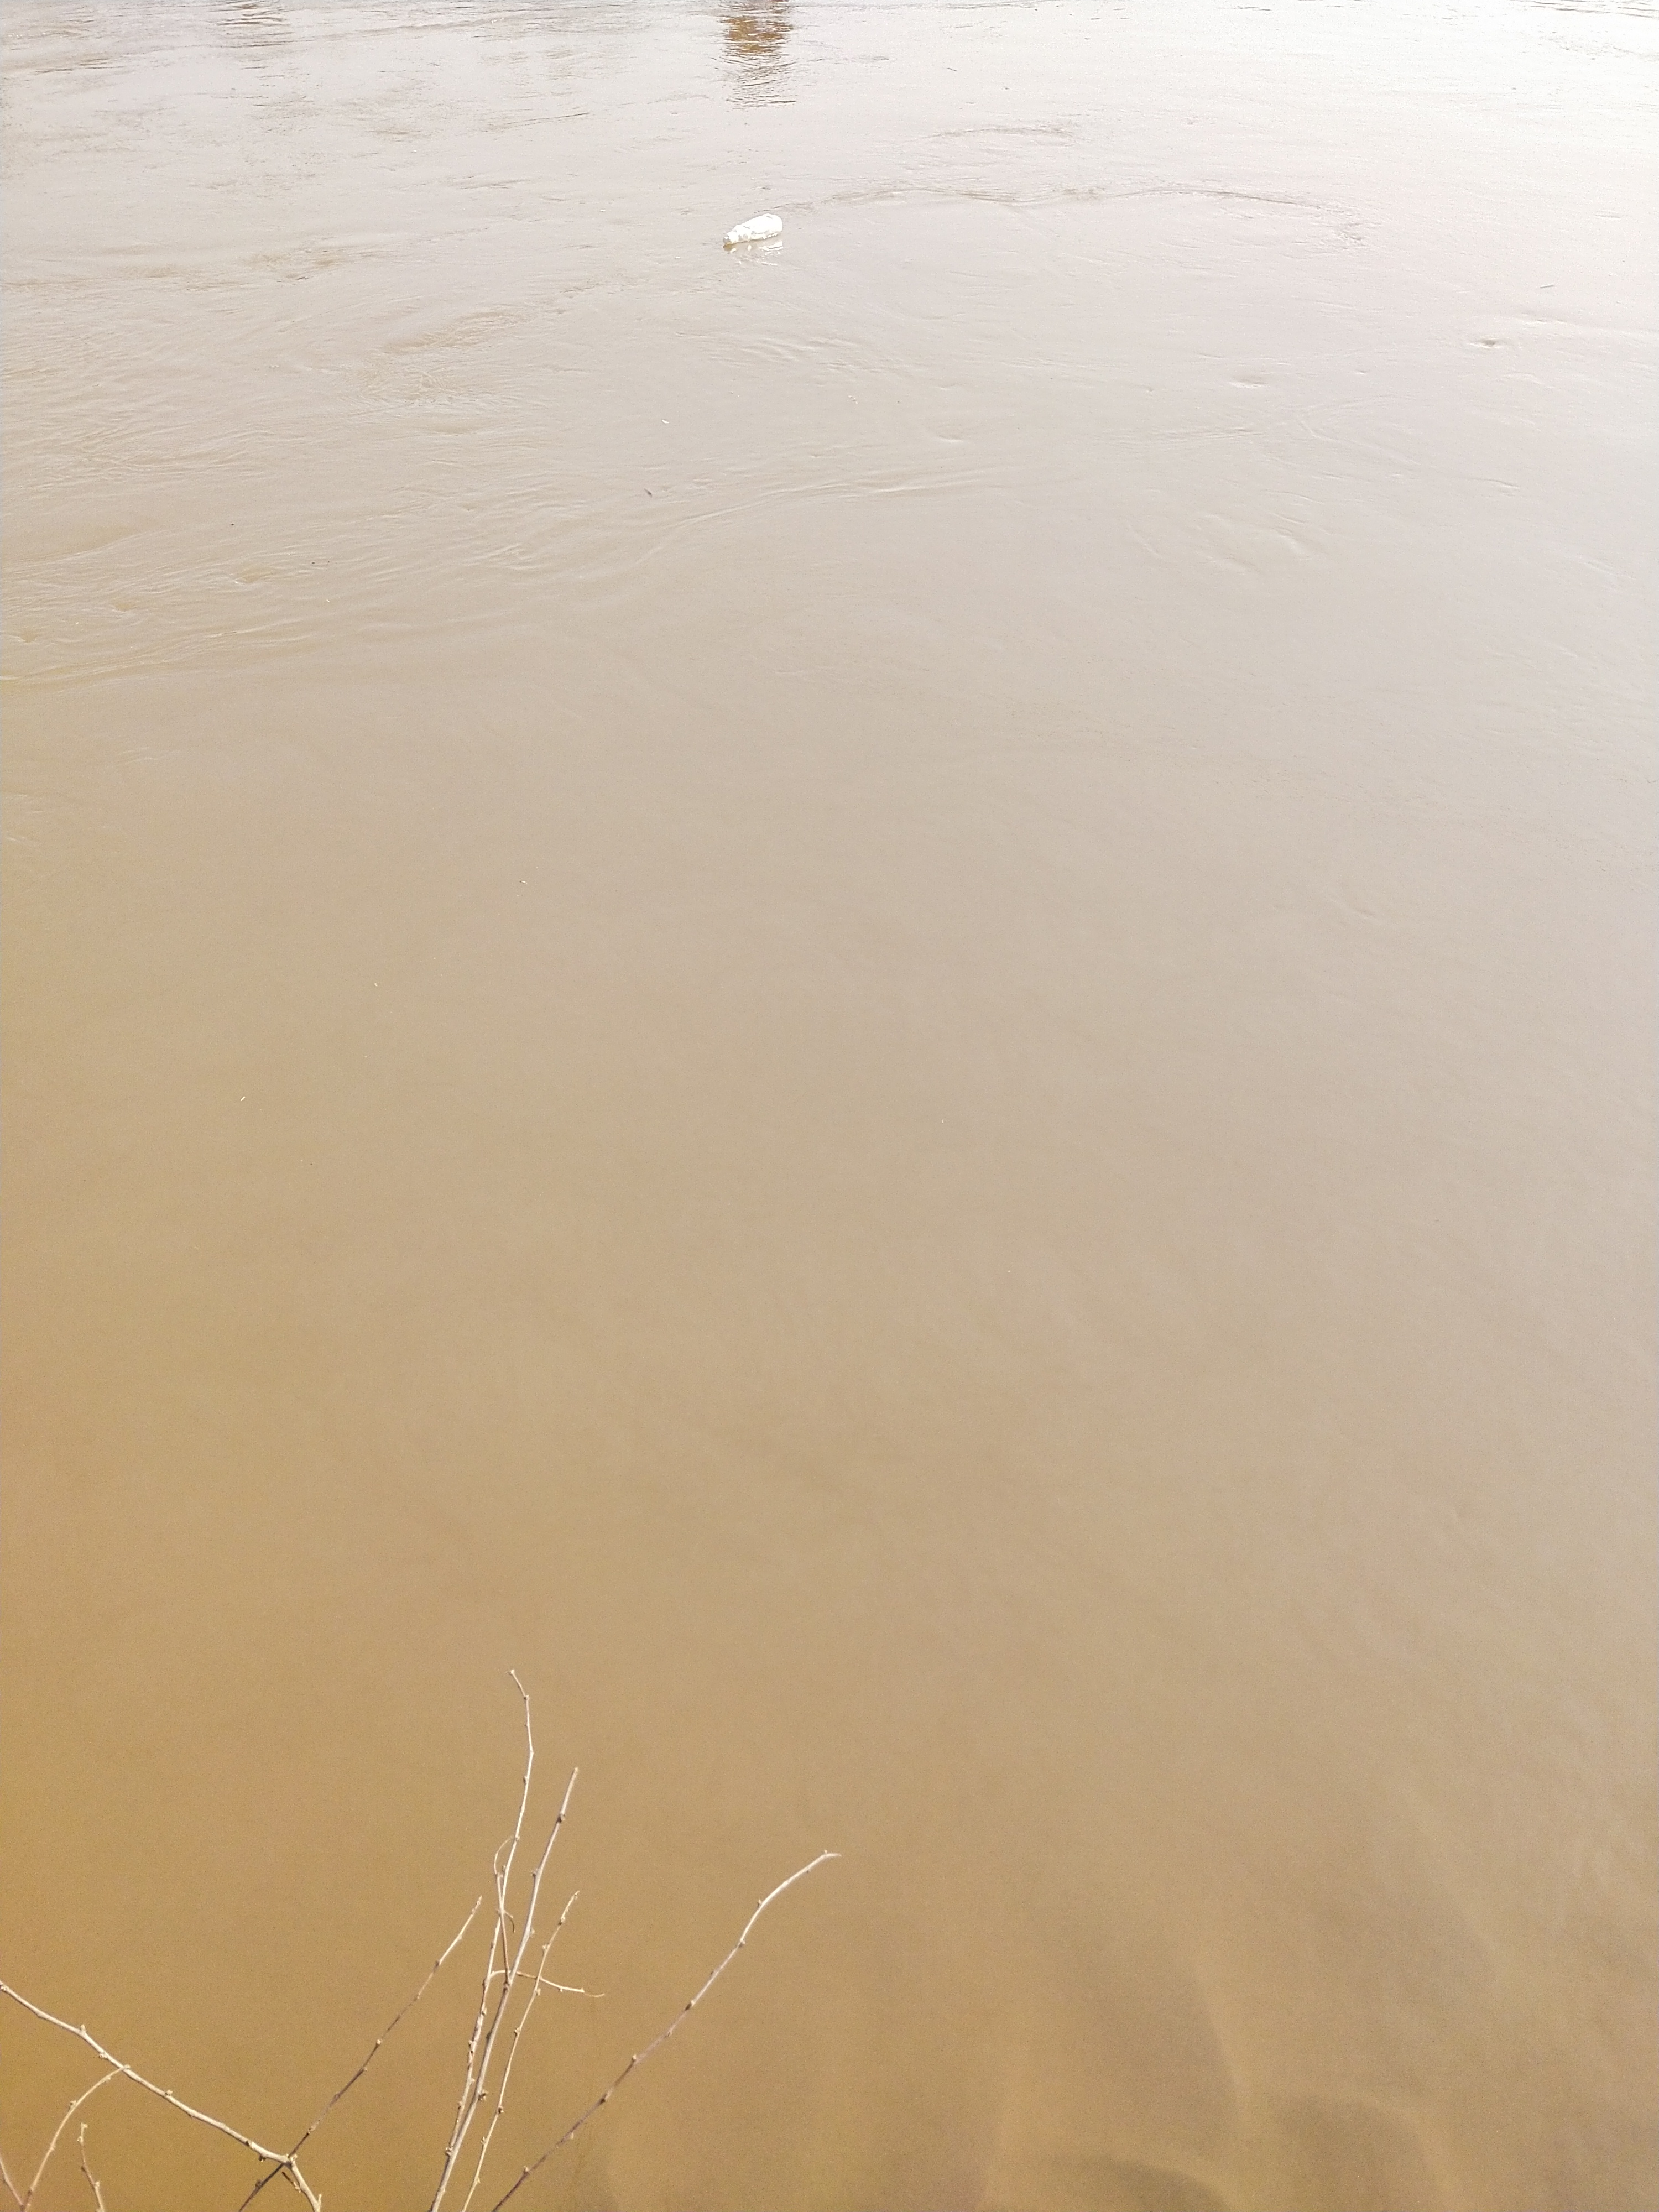Plastic Bottle: (723, 212, 782, 244)
